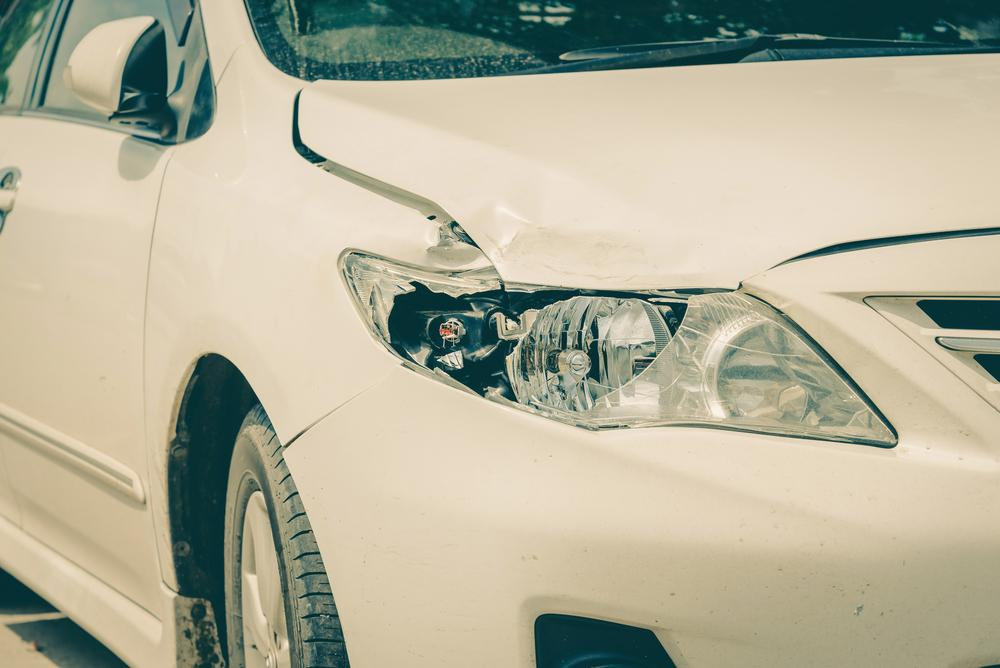dent: (469, 204, 651, 292), (425, 219, 495, 272)
lamp broken: (340, 252, 898, 451)
